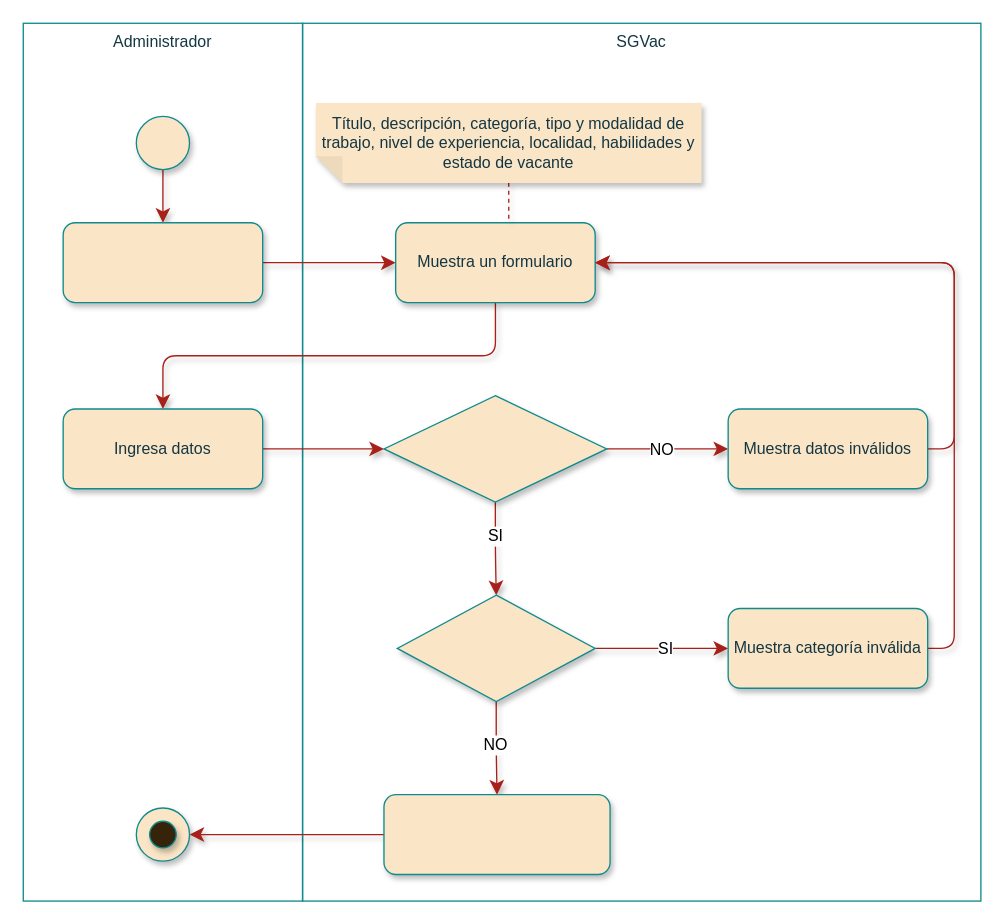
Some shapes in this 1004 by 924 pixel diagram are drawn without their labels. Here are the shapes that lost their labels. From the top down, the centre of each, then its label:
pixel 164 264: Ingresa a vacantes y selecciona Añadir vacante
pixel 496 450: Ingresó datos obligatorios?
pixel 497 650: Categoría no activa?
pixel 497 836: Se crea la vacante con el estado elegido
